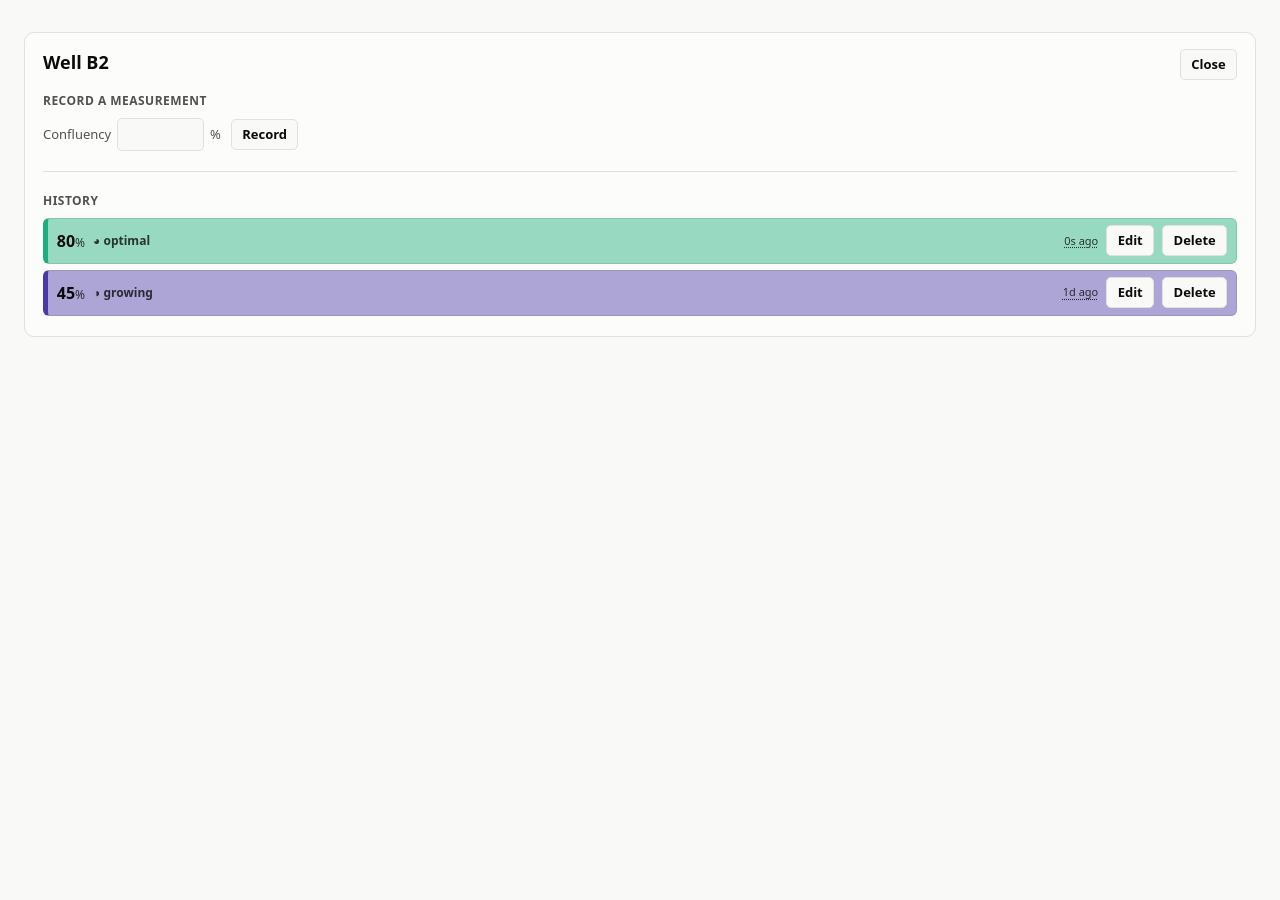
Test: WellPanel — deleting a measurement › asks before it deletes, naming the reading rather than just the row
Expected: the text "80" is shown, 57,230 -> 75,252
Click the button with aria-label "Delete reading" at (1195, 241), box 1162,225 -> 1227,256
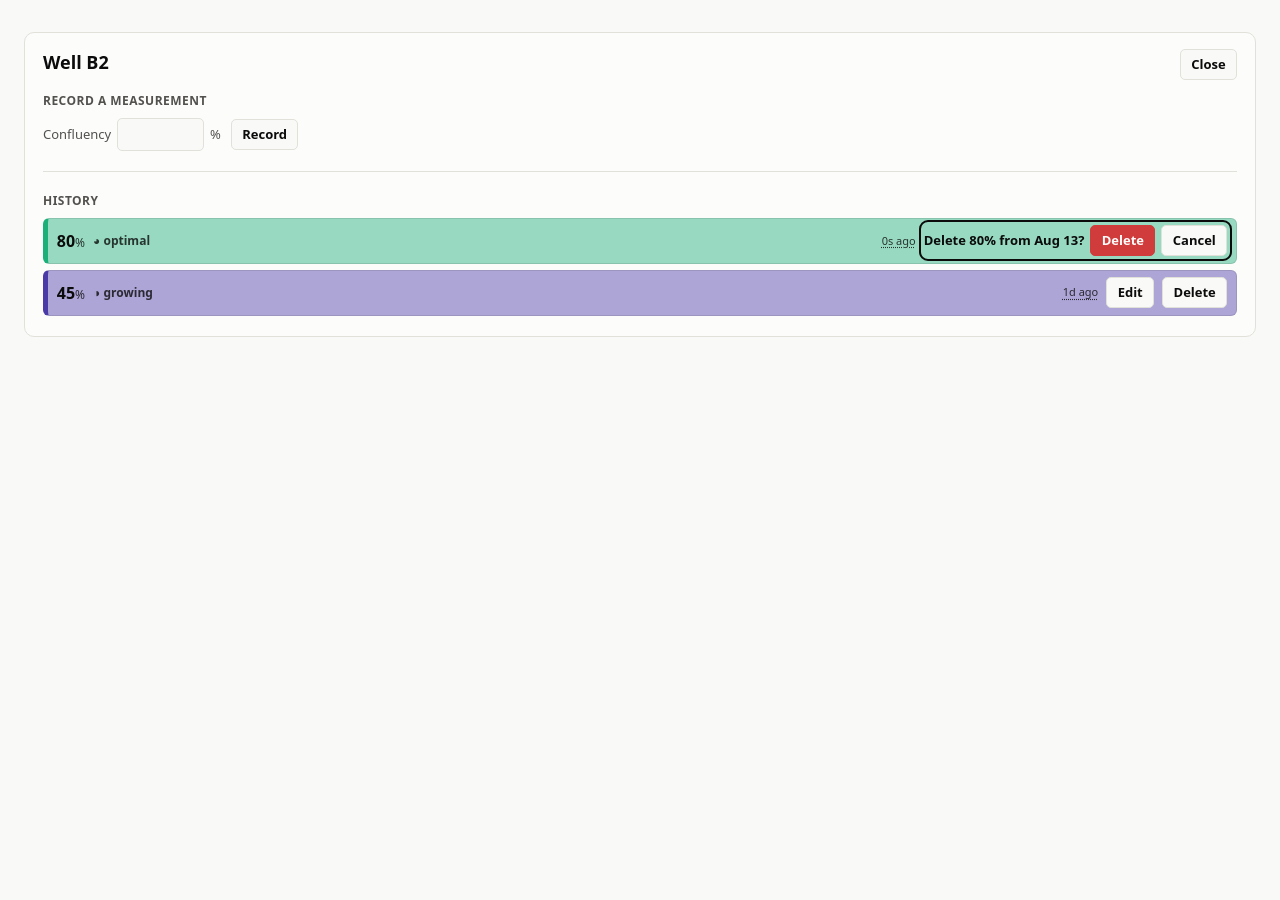
Expected: the text "Delete 80% from Aug 13?" is shown, 924,231 -> 1084,251
